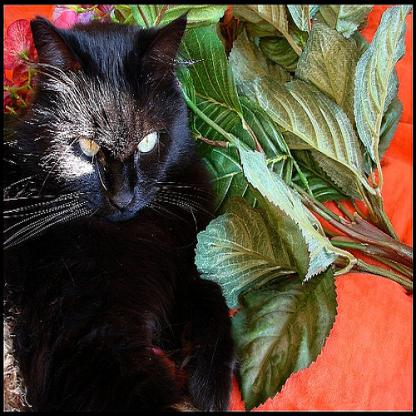cat: (8, 6, 226, 395)
